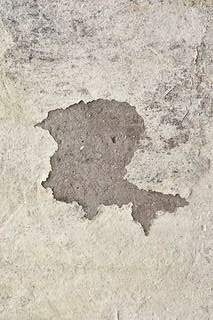Spalling: (33, 98, 190, 237)
